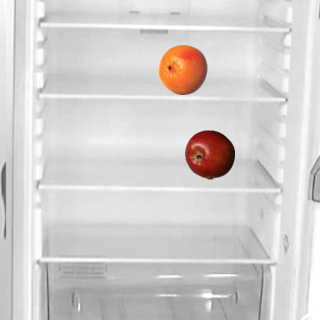Apple Braeburn: (184, 129, 234, 179)
Grapefruit Pink: (157, 44, 207, 94)
